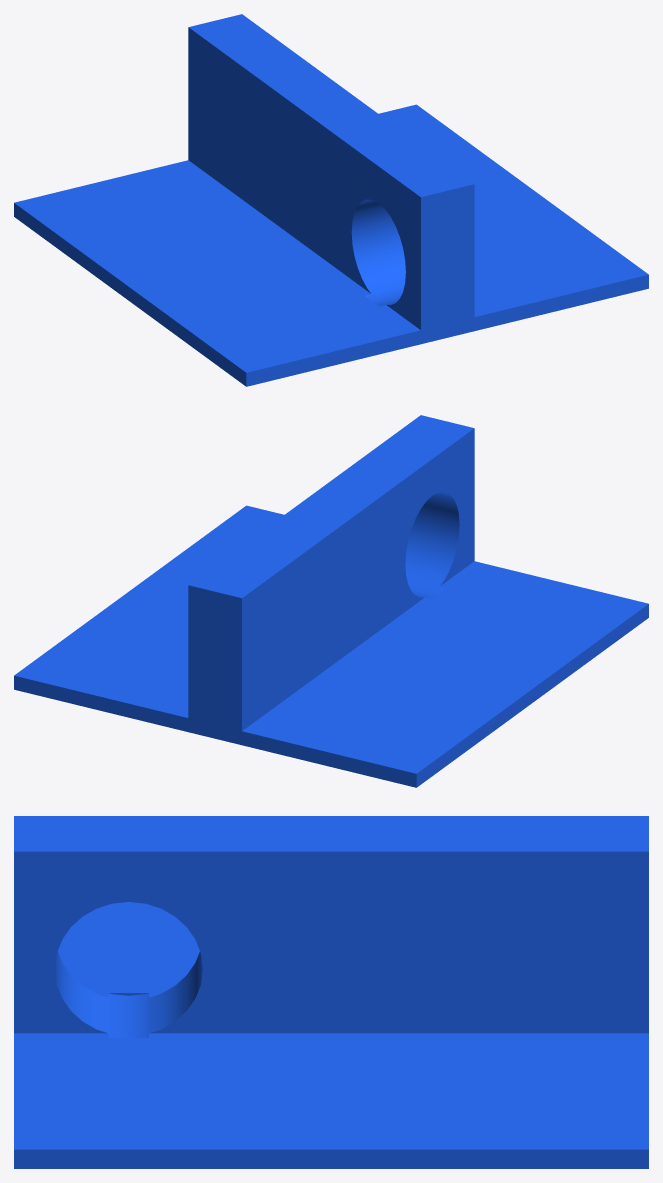
File: Hola2.fbx
3 renders of one model, top to bottom at view 1: azimuth 30°, elevation 25°; view 2: azimuth 150°, elevation 25°; view 3: azimuth 270°, elevation 25°, orthographic. The views are drawn at different scales.
Visible parts, largest first — view 1: Box001; view 2: Box001; view 3: Box001.
Part boxes in pixels (box(x1,y1,x2,y2)): Box001: box(14, 14, 648, 386); Box001: box(14, 415, 648, 787); Box001: box(14, 816, 648, 1168).
Size of the model in its own units: 236 by 82.44 by 236.
